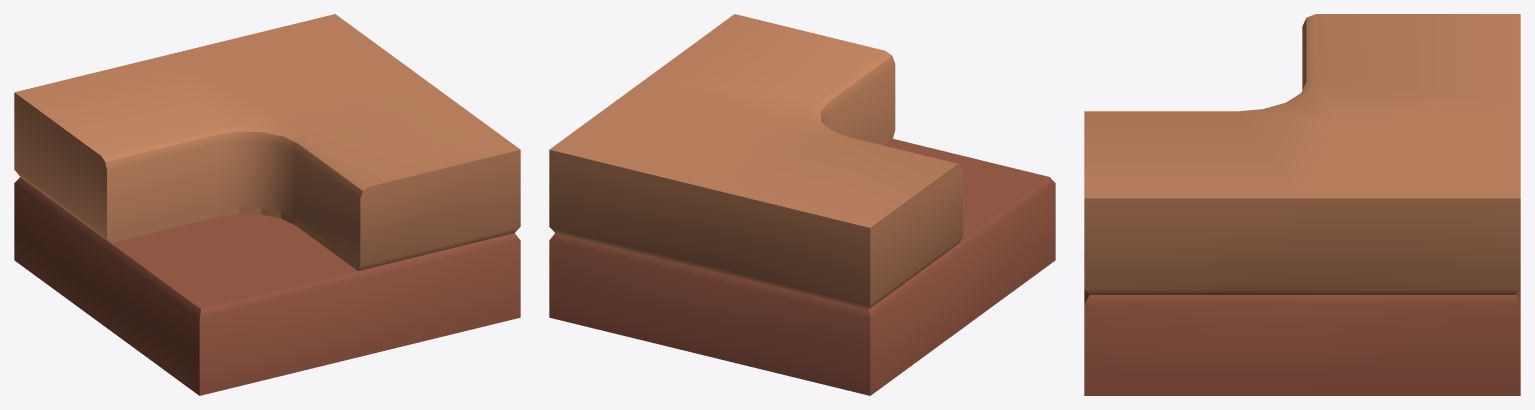
Rendered from square_rock_waterInnerCorner_empty.glb.
3 views of the same model, side by side, from view 1: azimuth 30°, elevation 25°; view 2: azimuth 150°, elevation 25°; view 3: azimuth 270°, elevation 25° (orthographic). The views are drawn at different scales.
Visible parts, largest first — view 1: square_rock_waterInnerCorner_empty; view 2: square_rock_waterInnerCorner_empty; view 3: square_rock_waterInnerCorner_empty.
Boxes of the visible parts, x1=… form: square_rock_waterInnerCorner_empty: x1=14, y1=14, x2=520, y2=395; square_rock_waterInnerCorner_empty: x1=549, y1=14, x2=1055, y2=395; square_rock_waterInnerCorner_empty: x1=1084, y1=14, x2=1520, y2=395.
Bounding box in the file's own units: 3.82 × 1.91 × 3.82.
